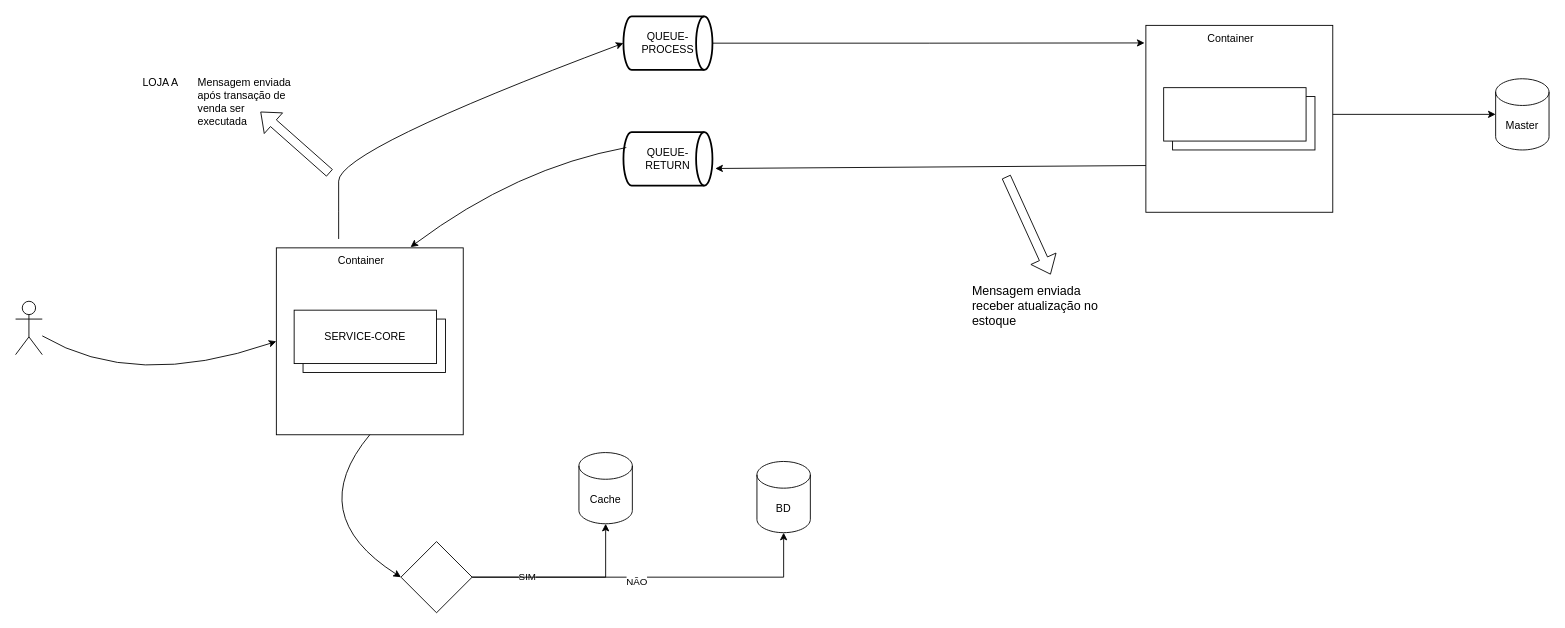
This 1565x628 diagram has some shape labels left out. The shapes that lost their labels are listed below. From the top down, each one's centre as x and y in pixels, then its label:
point 1234,114: CENTRAL-SERVICE-WRITER
point 28,327: Actor
point 436,577: Existe em cache?
